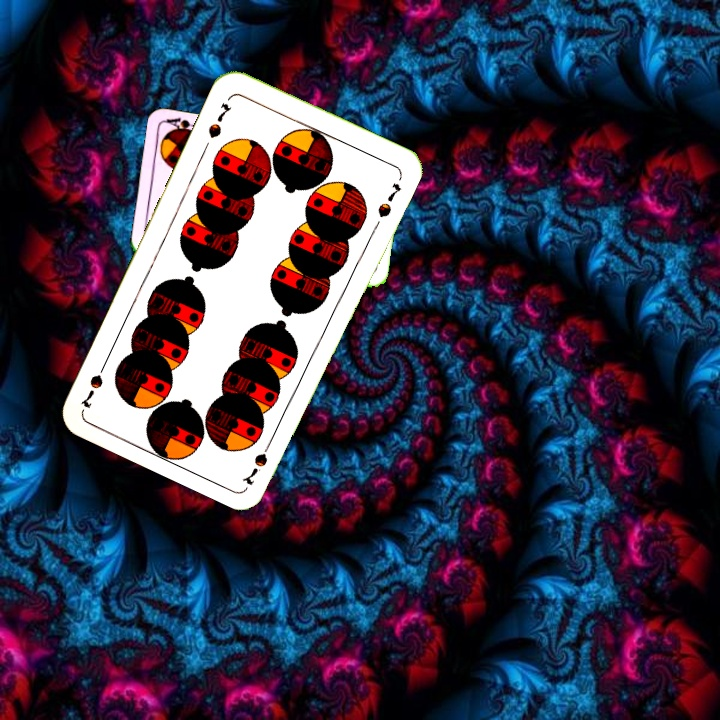S7: (240, 432, 277, 488), (204, 98, 235, 141)
